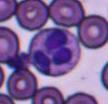N: (30, 28, 81, 77)
